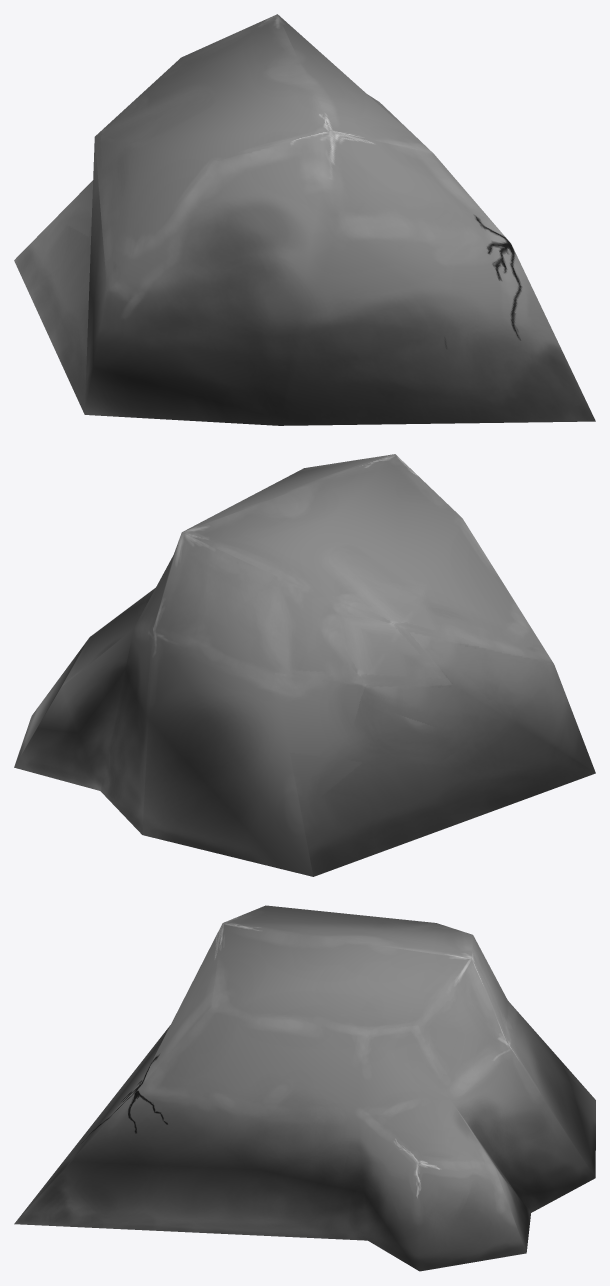
File: Roca.fbx
The picture shows the model from 3 angles, top to bottom: view 1: azimuth 30°, elevation 25°; view 2: azimuth 150°, elevation 25°; view 3: azimuth 270°, elevation 25°; orthographic projection. The views are drawn at different scales.
Visible parts, largest first — view 1: Roca; view 2: Roca; view 3: Roca.
Part boxes in pixels (left/top/right/bottom): Roca: left=14, top=14, right=595, bottom=425; Roca: left=14, top=454, right=595, bottom=876; Roca: left=14, top=905, right=595, bottom=1271.
Bounding box in the file's own units: 203 × 99.83 × 228.
